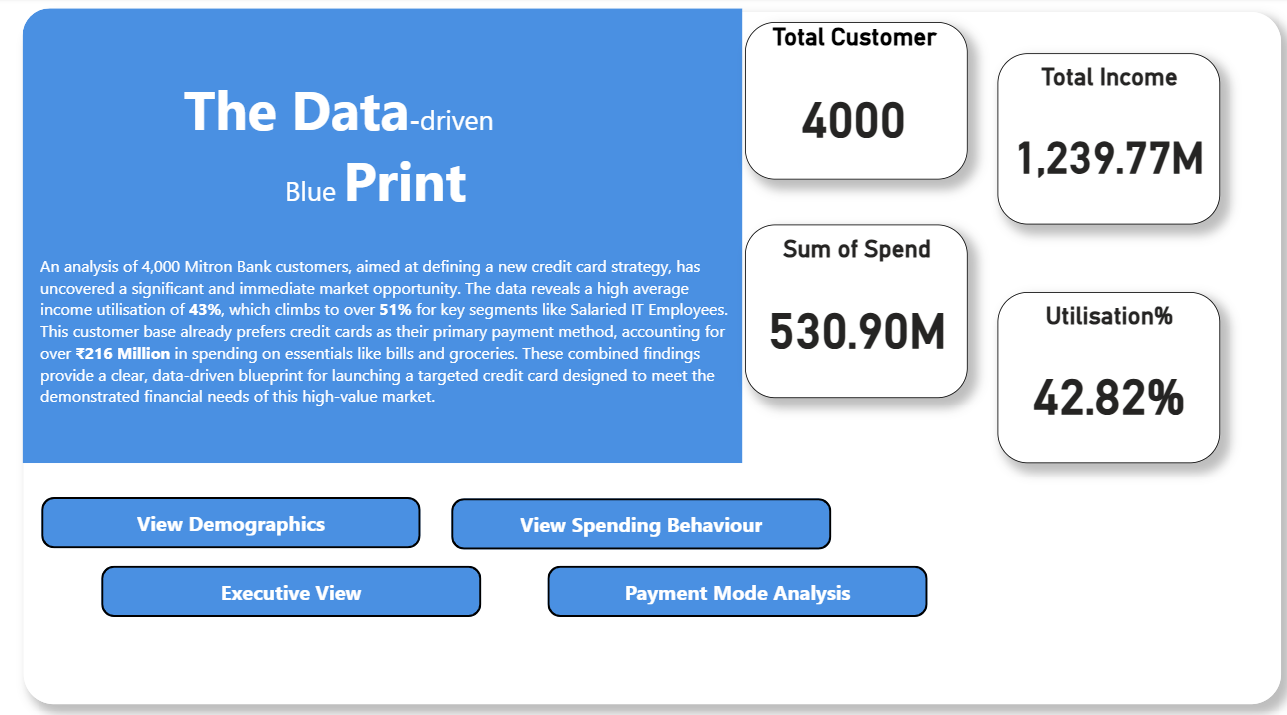

This screenshot's page, from the dashboard's own definition file:
{"tool":"powerbi","page":{"name":"Intro","canvas":[1280,720],"ordinal":0},"visuals":[{"type":"shape","box":[23,14.4,1251.4,689.2],"z":0,"group":"g1"},{"type":"shape","box":[22.4,11.2,716.5,452.8],"z":1000,"group":"g1"},{"type":"textbox","box":[34.8,251.3,697.9,177.9],"z":2000,"group":"g1"},{"type":"group","id":"g1","title":"Group 1","box":[22.4,11.2,1252,692.3],"z":2250,"group":"g2"},{"type":"card","title":"Total Customer","fields":{"Values":["dim_customers.Count_customer"]},"box":[741.4,24.9,221.4,156.7],"z":3625,"group":"g2"},{"type":"card","title":"Total Income","fields":{"Values":["dim_customers.total_amount_spend"]},"box":[992.7,56,221.4,170.4],"z":4500,"group":"g2"},{"type":"card","title":"Sum of Spend","fields":{"Values":["Sum(fact_spends.spend)"]},"box":[741.4,226.4,221.4,172.9],"z":5000,"group":"g2"},{"type":"card","title":"Utilisation%","fields":{"Values":["fact_spends.utlisation%"]},"box":[992.7,293.6,221.4,170.4],"z":9000,"group":"g2"},{"type":"shape","box":[41.2,497.5,377.5,51],"z":9501,"group":"g1"},{"type":"group","id":"g2","title":"Group 2","box":[22.4,11.2,1252.7,692.9],"z":10502},{"type":"textbox","box":[177.9,69.7,384.4,199],"z":10564},{"type":"shape","box":[544.9,566,378.2,51],"z":10627},{"type":"shape","box":[449.1,498.8,378.2,51],"z":10752},{"type":"shape","box":[100.8,566,378.2,51],"z":11002}]}

Visuals, with their boxes in screenshot pixels (x1, y1, x2, y2), scaled from the page's 1280x720 canvas onto the 1287x715 screenshot:
shape: <region>23, 14, 1281, 699</region>
shape: <region>23, 11, 743, 461</region>
textbox: <region>35, 250, 737, 426</region>
"Group 1" group: <region>23, 11, 1281, 699</region>
"Total Customer" card: <region>745, 25, 968, 180</region>
"Total Income" card: <region>998, 56, 1221, 225</region>
"Sum of Spend" card: <region>745, 225, 968, 397</region>
"Utilisation%" card: <region>998, 292, 1221, 461</region>
shape: <region>41, 494, 421, 545</region>
"Group 2" group: <region>23, 11, 1282, 699</region>
textbox: <region>179, 69, 565, 267</region>
shape: <region>548, 562, 928, 613</region>
shape: <region>452, 495, 832, 546</region>
shape: <region>101, 562, 482, 613</region>
